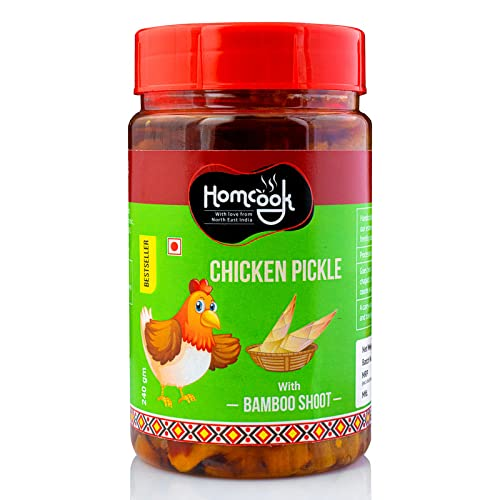non_veg: (165, 234, 187, 260)
